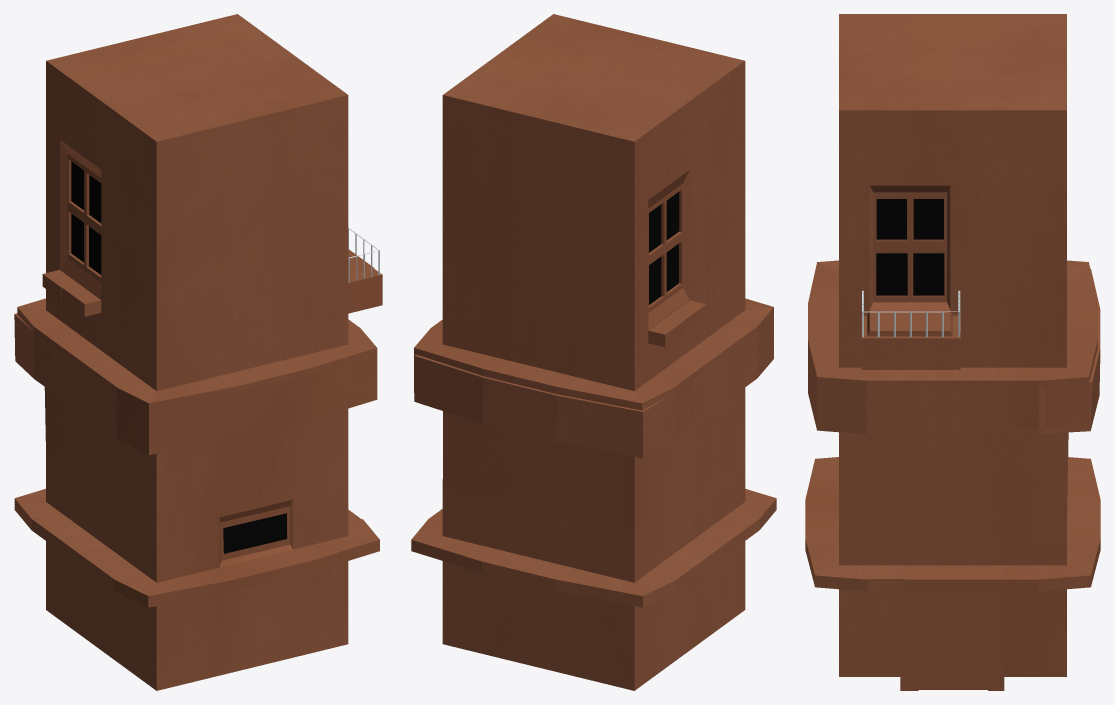
Rendered from yessir2.fbx.
3 views of the same model, side by side, from view 1: azimuth 30°, elevation 25°; view 2: azimuth 150°, elevation 25°; view 3: azimuth 270°, elevation 25° (orthographic). The views are drawn at different scales.
Parts seen in each view (by area): view 1: Cube; view 2: Cube; view 3: Cube, Cube.001.
Part boxes in pixels (x1=…): Cube: x1=14, y1=14, x2=382, y2=690; Cube: x1=411, y1=14, x2=776, y2=690; Cube: x1=805, y1=14, x2=1100, y2=690; Cube.001: x1=862, y1=290, x2=960, y2=337.
Bounding box in the file's own units: 277 × 548 × 259.
Materials: 4 (1 with a texture image).
